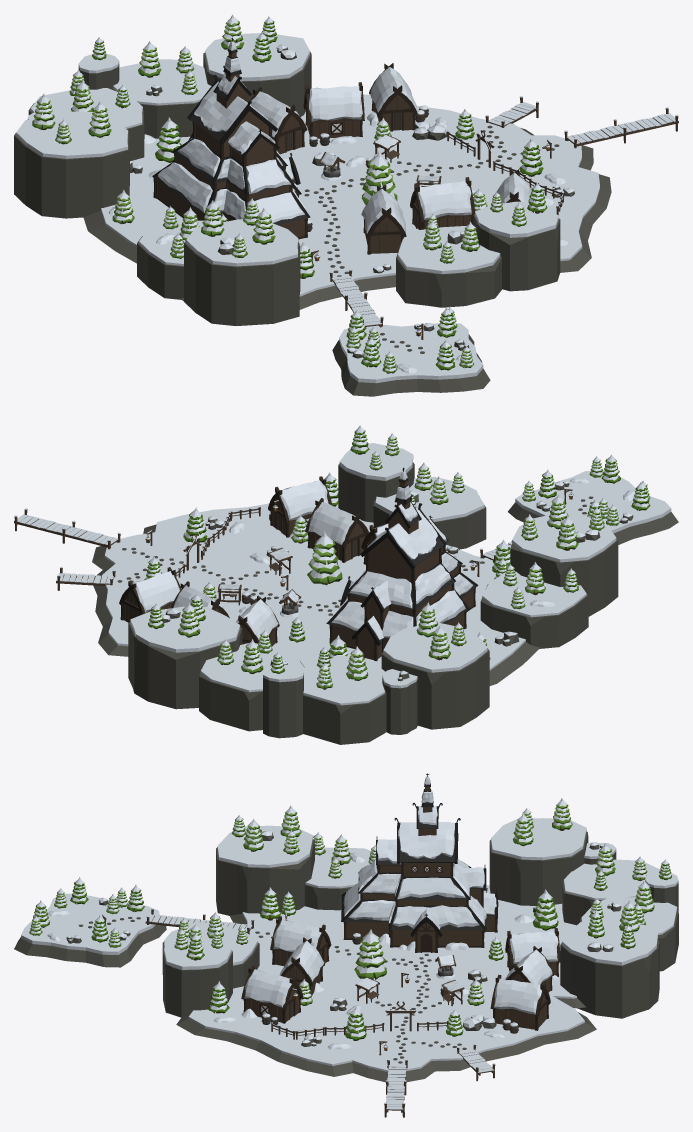
Rendered from Village.fbx.
The picture shows the model from 3 angles, top to bottom: view 1: azimuth 30°, elevation 25°; view 2: azimuth 150°, elevation 25°; view 3: azimuth 270°, elevation 25°; orthographic projection. The views are drawn at different scales.
Visible parts, largest first — view 1: Katto7.015, Plane.731, Vert.088, Vert.069, Plane.588, Plane.558, Vert.086, Vert.082, Vert.076, Plane.734, Vert.074, Plane.739 (+24 smaller); view 2: Katto7.015, Vert.069, Vert.076, Plane.588, Vert.088, Vert.073, Plane.731, Vert.090, Plane.734, Plane.558, Vert.074, Vert.082 (+22 smaller); view 3: Katto7.015, Vert.076, Plane.734, Plane.731, Vert.088, Vert.069, Plane.737, Plane.588, Plane.558, Vert.082, Plane.732, Vert.073 (+17 smaller).
Boxes of the visible parts, bbox=[...] form: Katto7.015: bbox=[152, 37, 310, 239]; Plane.731: bbox=[83, 173, 418, 309]; Vert.088: bbox=[184, 219, 300, 325]; Vert.069: bbox=[14, 111, 129, 218]; Plane.588: bbox=[371, 130, 593, 213]; Plane.558: bbox=[332, 323, 490, 396]; Vert.086: bbox=[396, 226, 501, 307]; Vert.082: bbox=[473, 201, 560, 291]; Vert.076: bbox=[203, 33, 311, 116]; Plane.734: bbox=[398, 160, 611, 272]; Vert.074: bbox=[112, 59, 211, 138]; Plane.739: bbox=[303, 82, 364, 138]; Katto7.015: bbox=[326, 467, 478, 661]; Vert.069: bbox=[381, 622, 489, 729]; Vert.076: bbox=[128, 606, 242, 709]; Plane.588: bbox=[92, 515, 308, 601]; Vert.088: bbox=[510, 512, 618, 616]; Vert.073: bbox=[302, 655, 386, 744]; Plane.731: bbox=[252, 526, 540, 685]; Vert.090: bbox=[480, 571, 588, 648]; Plane.734: bbox=[143, 503, 373, 594]; Plane.558: bbox=[508, 470, 678, 544]; Vert.074: bbox=[199, 643, 304, 731]; Vert.082: bbox=[338, 443, 414, 522]; Katto7.015: bbox=[341, 773, 498, 952]; Vert.076: bbox=[560, 917, 659, 1018]; Plane.734: bbox=[176, 987, 399, 1076]; Plane.731: bbox=[230, 885, 499, 999]; Vert.088: bbox=[216, 825, 314, 915]; Vert.069: bbox=[489, 818, 588, 905]; Plane.737: bbox=[394, 956, 596, 1071]; Plane.588: bbox=[254, 997, 497, 1082]; Plane.558: bbox=[14, 893, 166, 967]; Vert.082: bbox=[163, 937, 232, 1017]; Plane.732: bbox=[417, 916, 586, 1008]; Vert.073: bbox=[562, 859, 659, 925].
Bounding box in the file's own units: 6401 × 2019 × 7278.
12 materials, 1 textured.
